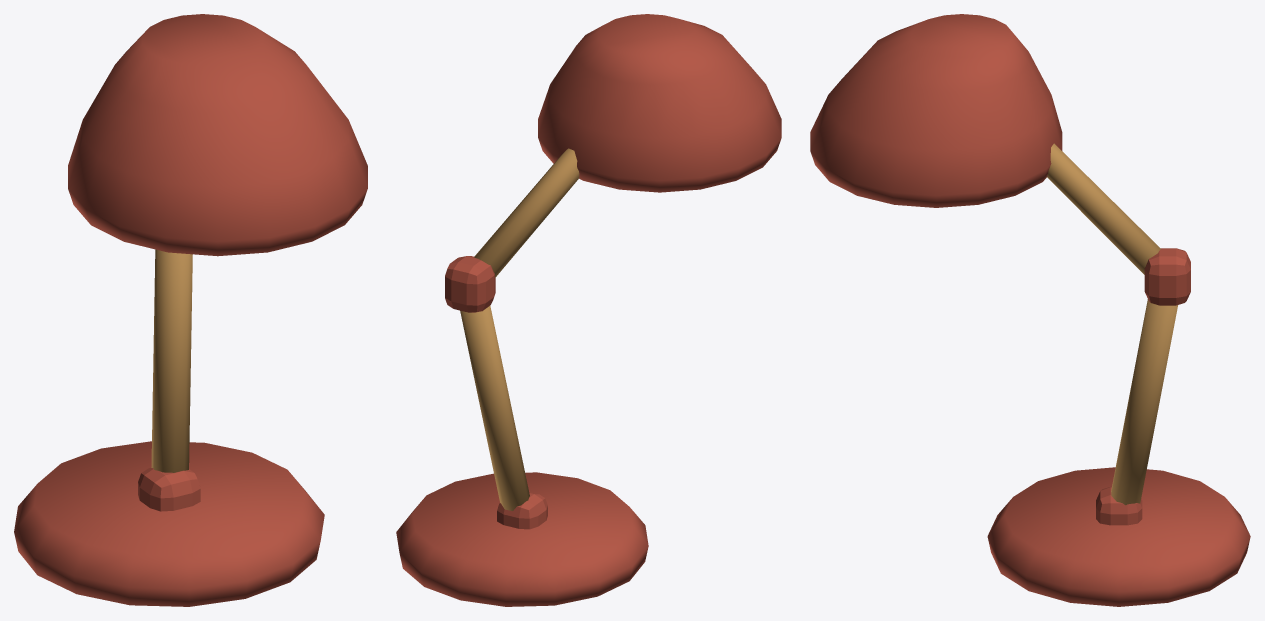
The model's file is desk_lamp.glb.
3 renders of one model, left to right at view 1: azimuth 30°, elevation 25°; view 2: azimuth 150°, elevation 25°; view 3: azimuth 270°, elevation 25°, orthographic. The views are drawn at different scales.
Parts seen in each view (by area): view 1: Spun metal shade, Weighted foot, Lower brass arm, Pivot cap; view 2: Spun metal shade, Weighted foot, Lower brass arm, Upper brass arm, Pivot cap.001, Pivot cap; view 3: Spun metal shade, Weighted foot, Lower brass arm, Upper brass arm, Pivot cap.001, Pivot cap.
Boxes of the visible parts, x1,y1,x2,y2 form: Spun metal shade: (68,14,367,256); Weighted foot: (14,441,324,606); Lower brass arm: (151,249,192,472); Pivot cap: (138,467,200,511); Spun metal shade: (538,14,781,192); Weighted foot: (396,472,648,606); Lower brass arm: (460,306,529,510); Upper brass arm: (474,148,579,277); Pivot cap.001: (445,256,495,312); Pivot cap: (497,492,547,529); Spun metal shade: (810,14,1062,207); Weighted foot: (987,467,1250,606); Lower brass arm: (1111,299,1177,505); Upper brass arm: (1047,143,1160,274); Pivot cap.001: (1144,248,1190,305); Pivot cap: (1096,486,1142,525).
Bounding box in the file's own units: 0.261 × 0.446 × 0.3614.
